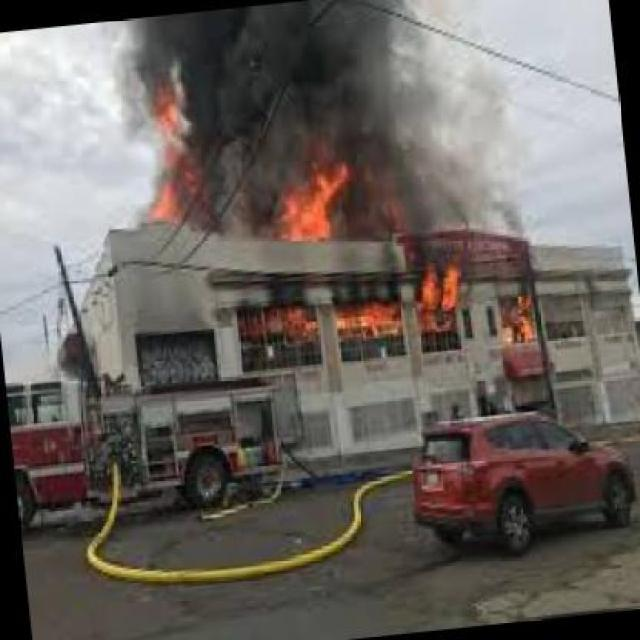Fire: (148, 151, 207, 224), (424, 260, 477, 340), (284, 171, 341, 243), (328, 294, 402, 349), (245, 304, 320, 334), (504, 300, 547, 350)
Smoke: (103, 0, 440, 149), (402, 38, 586, 223)
